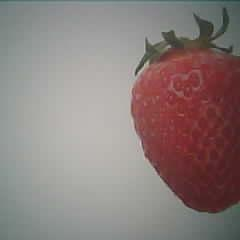straw-ripe: (131, 44, 240, 214)
